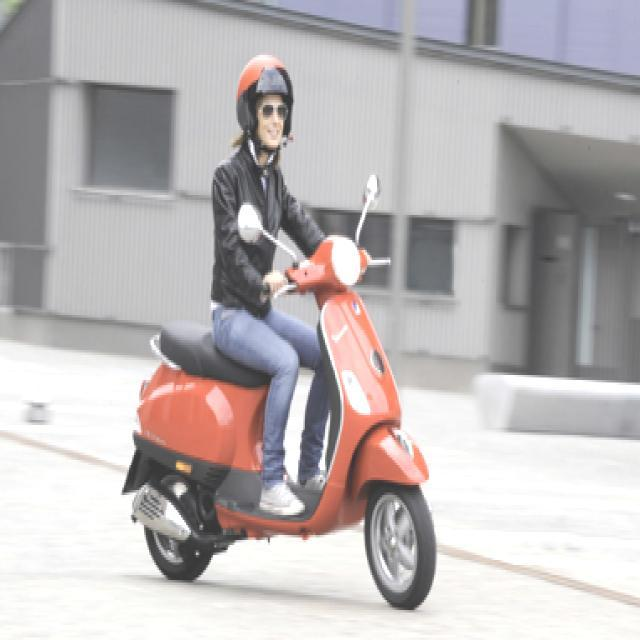Helmet: (231, 45, 298, 160)
